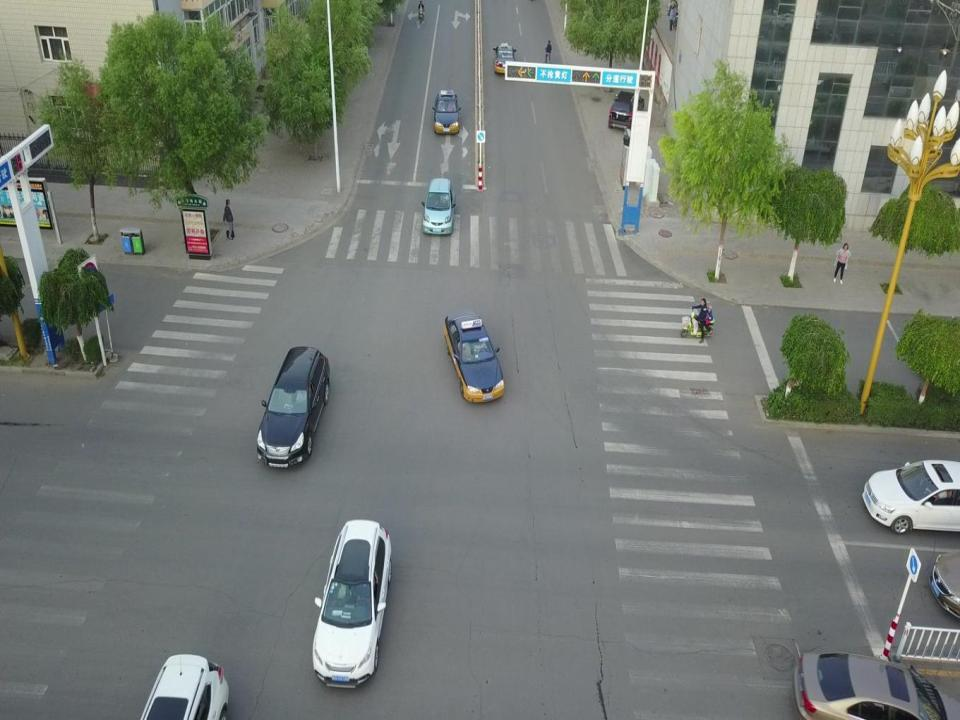car: (314, 519, 393, 689), (793, 649, 941, 720), (258, 346, 329, 470), (862, 459, 960, 538), (141, 651, 230, 720), (443, 312, 505, 404), (421, 179, 454, 234), (608, 92, 644, 128), (434, 90, 460, 136), (494, 42, 516, 74), (693, 298, 706, 344), (704, 305, 714, 333)
